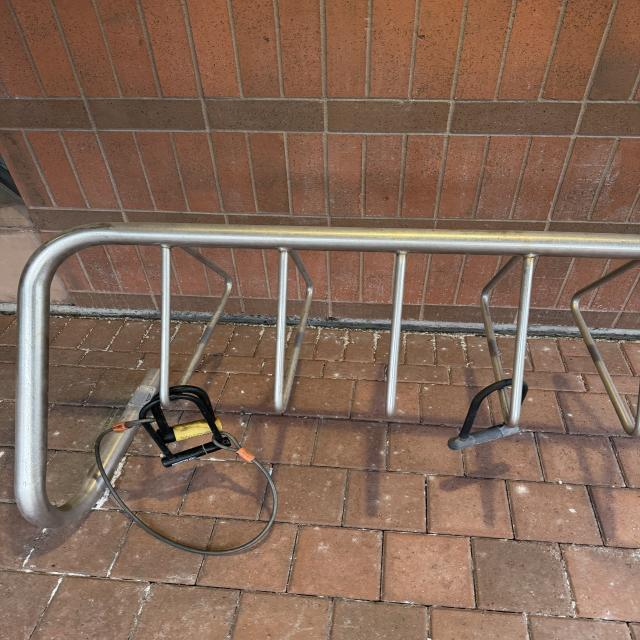Bicycle Rack: (14, 224, 640, 528)
